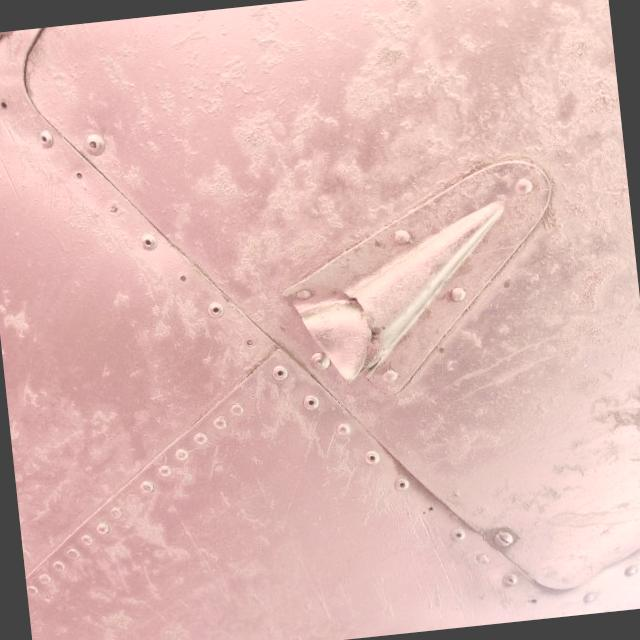crack: (268, 266, 404, 400)
